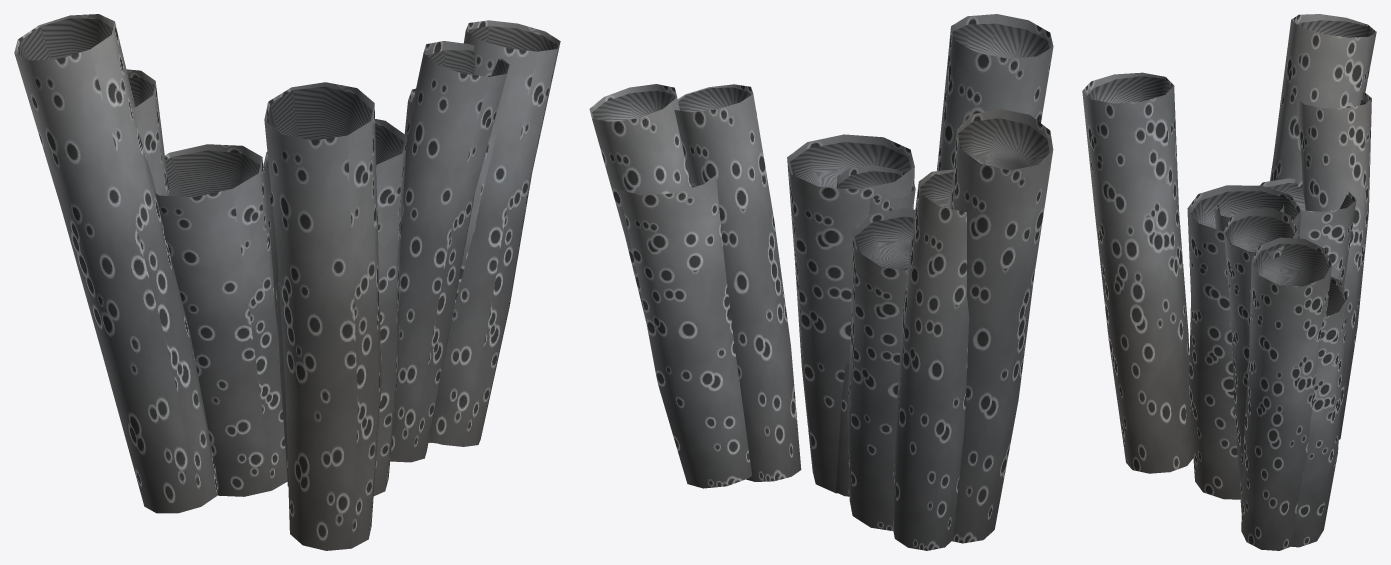
File: tubes_l0.gltf
The picture shows the model from 3 angles, left to right: view 1: azimuth 30°, elevation 25°; view 2: azimuth 150°, elevation 25°; view 3: azimuth 270°, elevation 25°; orthographic projection. The views are drawn at different scales.
Visible parts, largest first — view 1: tubes_l0; view 2: tubes_l0; view 3: tubes_l0.
Boxes of the visible parts, x1=… form: tubes_l0: x1=14, y1=14, x2=560, y2=550; tubes_l0: x1=589, y1=14, x2=1053, y2=550; tubes_l0: x1=1082, y1=14, x2=1376, y2=550.
Size of the model in its own units: 1.92 by 1.71 by 1.18.
Materials: 1 (1 with a texture image).
